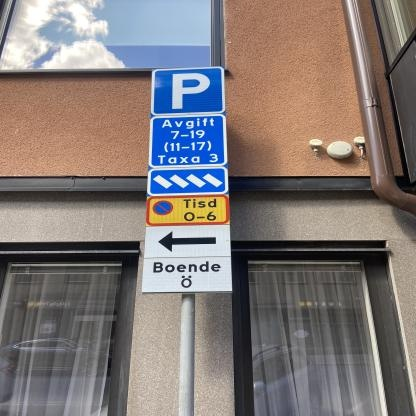P-skylt: (148, 67, 227, 116)
